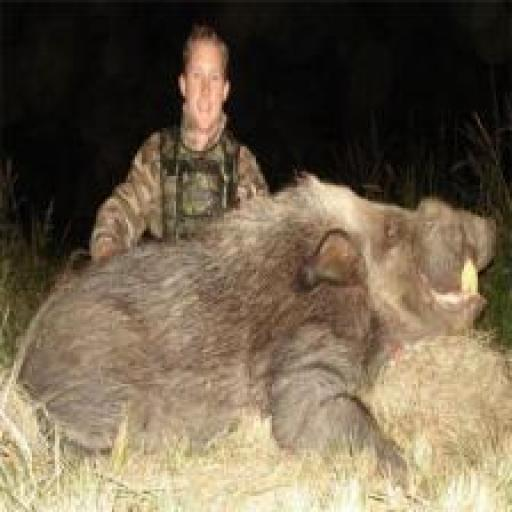Pig: (0, 164, 505, 512)
